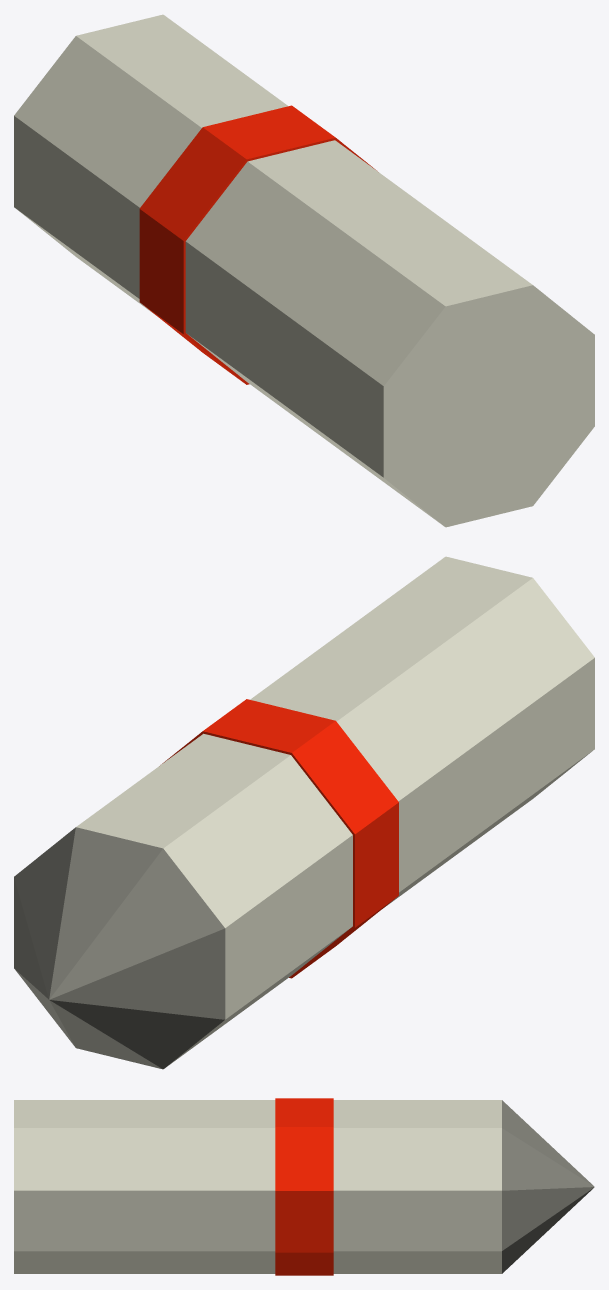
Rendered from ce_ammo_chcells_conc_a.obj.
3 views of the same model, one above another, from view 1: azimuth 30°, elevation 25°; view 2: azimuth 150°, elevation 25°; view 3: azimuth 270°, elevation 25° (orthographic). The views are drawn at different scales.
Parts seen in each view (by area): view 1: ce_ammo_chcells_conc_a_0, ce_ammo_chcells_conc_a_2, ce_ammo_chcells_conc_a_1; view 2: ce_ammo_chcells_conc_a_0, ce_ammo_chcells_conc_a_2, ce_ammo_chcells_conc_a_3, ce_ammo_chcells_conc_a_1; view 3: ce_ammo_chcells_conc_a_0, ce_ammo_chcells_conc_a_2, ce_ammo_chcells_conc_a_1, ce_ammo_chcells_conc_a_3.
Part boxes in pixels (x1,y1,x2,y2): ce_ammo_chcells_conc_a_0: (185, 140, 594, 527); ce_ammo_chcells_conc_a_2: (14, 14, 288, 315); ce_ammo_chcells_conc_a_1: (139, 105, 376, 384); ce_ammo_chcells_conc_a_0: (250, 556, 594, 908); ce_ammo_chcells_conc_a_2: (76, 733, 352, 1066); ce_ammo_chcells_conc_a_3: (14, 827, 225, 1069); ce_ammo_chcells_conc_a_1: (162, 699, 398, 978); ce_ammo_chcells_conc_a_0: (14, 1100, 275, 1273); ce_ammo_chcells_conc_a_2: (333, 1100, 501, 1273); ce_ammo_chcells_conc_a_1: (275, 1098, 333, 1275); ce_ammo_chcells_conc_a_3: (502, 1100, 594, 1273).
Bounding box in the file's own units: 0.1696 × 0.1696 × 0.6.
